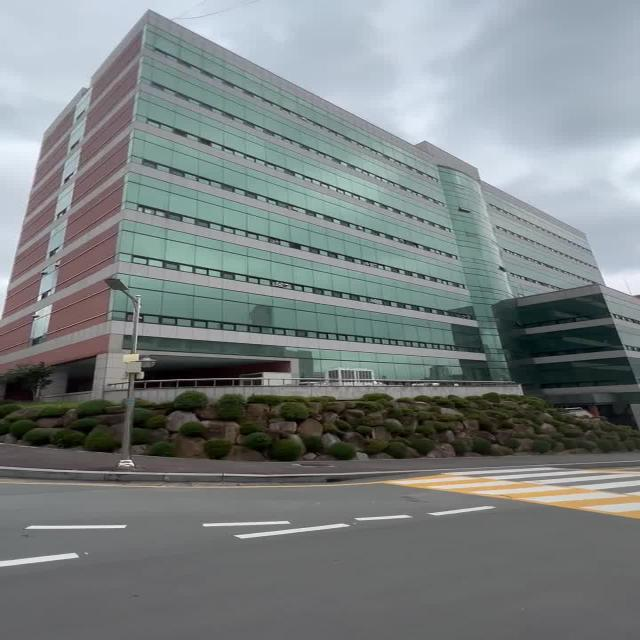building: (20, 45, 526, 391)
